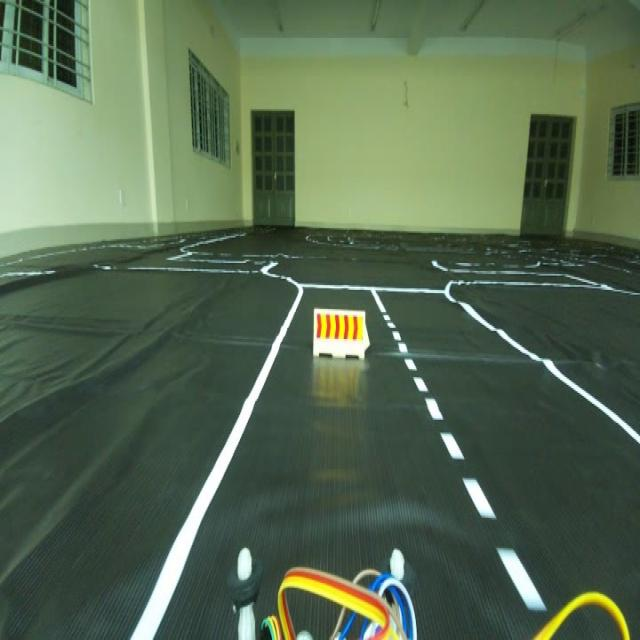roadblock: (309, 296, 378, 384)
